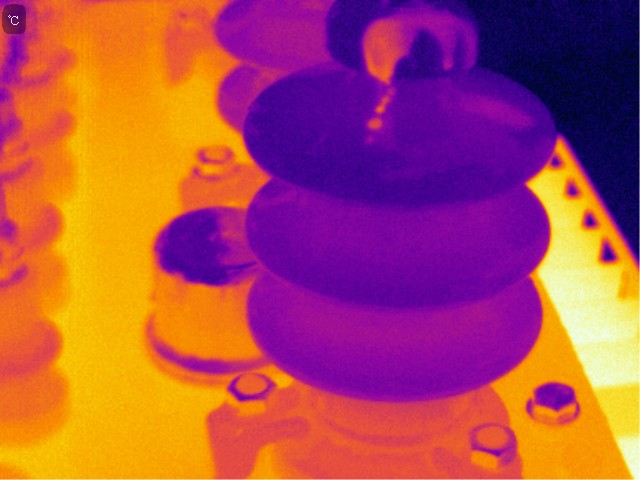Oil: (358, 6, 474, 81), (430, 80, 538, 139), (361, 86, 403, 152)
